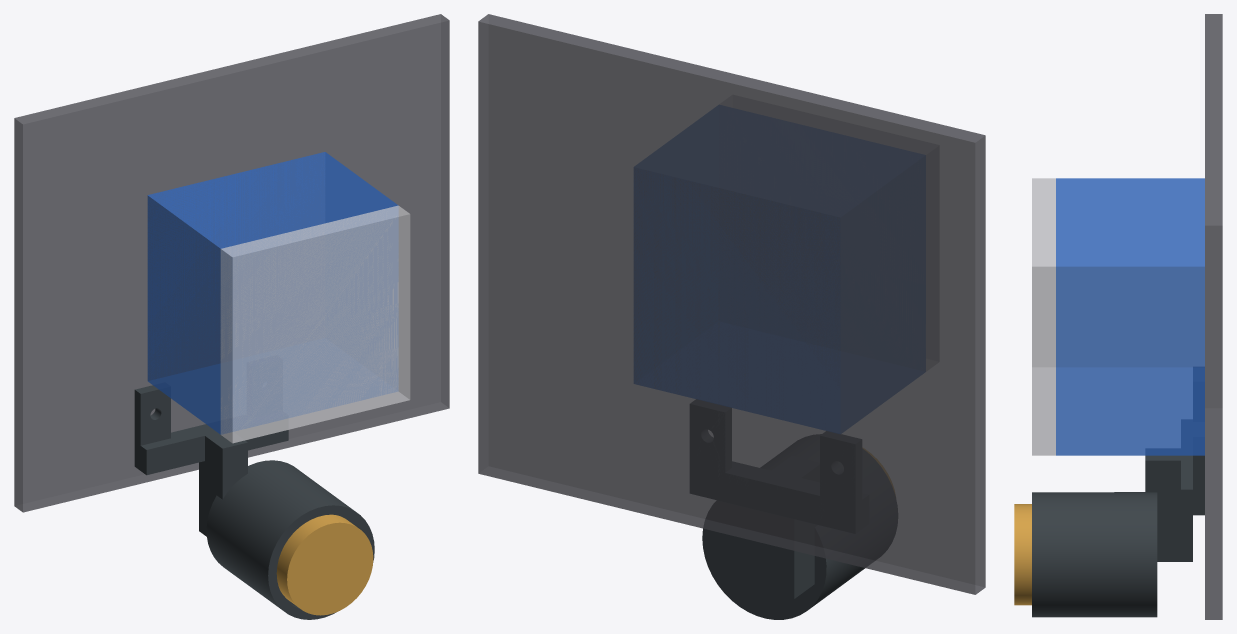
File: cart-pod-holder-v2.glb
3 renders of one model, left to right at view 1: azimuth 30°, elevation 25°; view 2: azimuth 150°, elevation 25°; view 3: azimuth 270°, elevation 25°, orthographic. The views are drawn at different scales.
Parts seen in each view (by area): view 1: plate, battery, arm_base, cart_pod_holder, seedling_pod; view 2: plate, battery, cart_pod_holder; view 3: battery, cart_pod_holder, plate, arm_base, seedling_pod.
Boxes of the visible parts, <box> form: plate: <box>14,14,449,512</box>; battery: <box>147,152,398,434</box>; arm_base: <box>220,205,410,443</box>; cart_pod_holder: <box>134,383,374,619</box>; seedling_pod: <box>276,514,373,615</box>; plate: <box>478,14,985,594</box>; battery: <box>634,167,840,433</box>; cart_pod_holder: <box>690,400,897,619</box>; battery: <box>1056,178,1204,455</box>; cart_pod_holder: <box>1032,367,1204,617</box>; plate: <box>1205,14,1222,619</box>; arm_base: <box>1032,178,1055,455</box>; seedling_pod: <box>1014,504,1031,605</box>.
Bounding box in the file's own units: 168 × 182 × 70.
